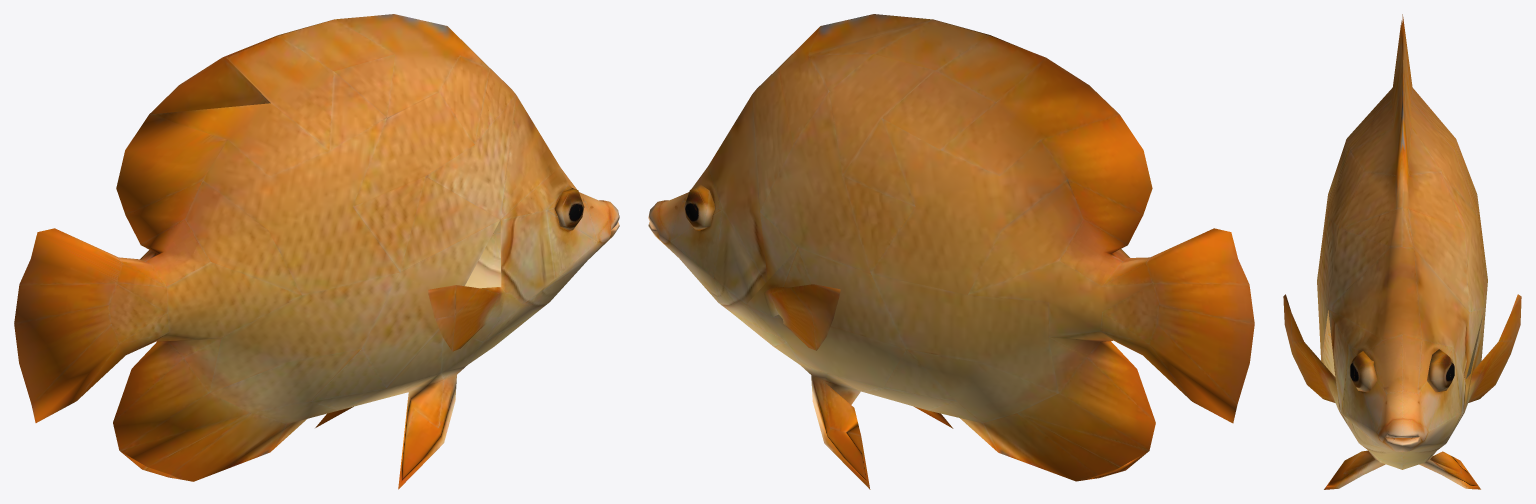
The model's file is fish_gold.glb.
3 views of the same model, side by side, from view 1: azimuth 30°, elevation 25°; view 2: azimuth 150°, elevation 25°; view 3: azimuth 270°, elevation 25° (orthographic). The views are drawn at different scales.
Parts seen in each view (by area): view 1: geometry_0; view 2: geometry_0; view 3: geometry_0.
Part boxes in pixels (x1,y1,x2,y2): geometry_0: (14,14,619,489); geometry_0: (648,14,1254,489); geometry_0: (1283,14,1521,489).
Size of the model in its own units: 1 by 0.7042 by 0.3615.
1 material, 1 textured.
